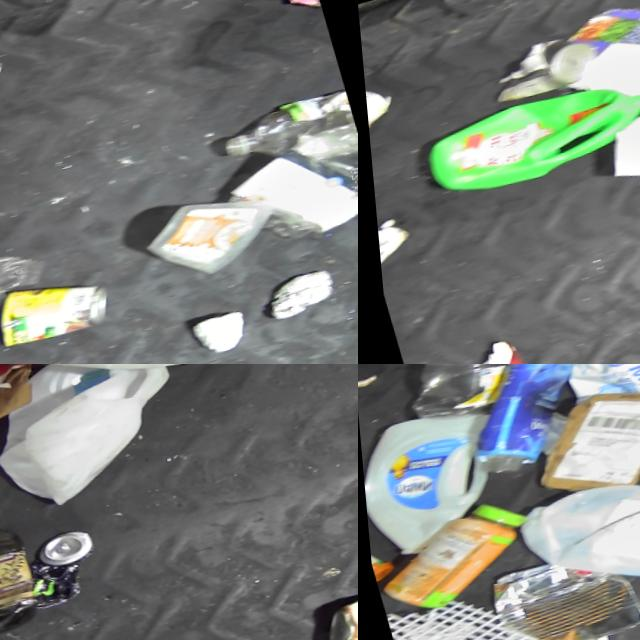can: (0, 364, 196, 523), (475, 544, 640, 640), (0, 270, 111, 357), (8, 527, 104, 616), (307, 598, 358, 640), (241, 0, 317, 16)
milk_jug: (358, 401, 506, 565), (506, 463, 640, 616), (0, 364, 297, 429), (577, 63, 640, 225)
non_white_jug: (408, 72, 640, 208), (0, 495, 39, 640)
plastic_bottle: (207, 94, 358, 184)
